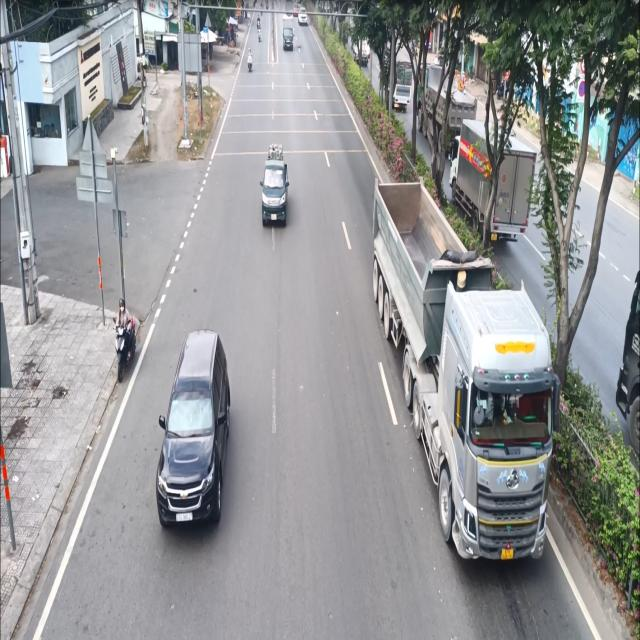car: (154, 324, 234, 536)
motor: (371, 160, 553, 577), (262, 136, 288, 236)
